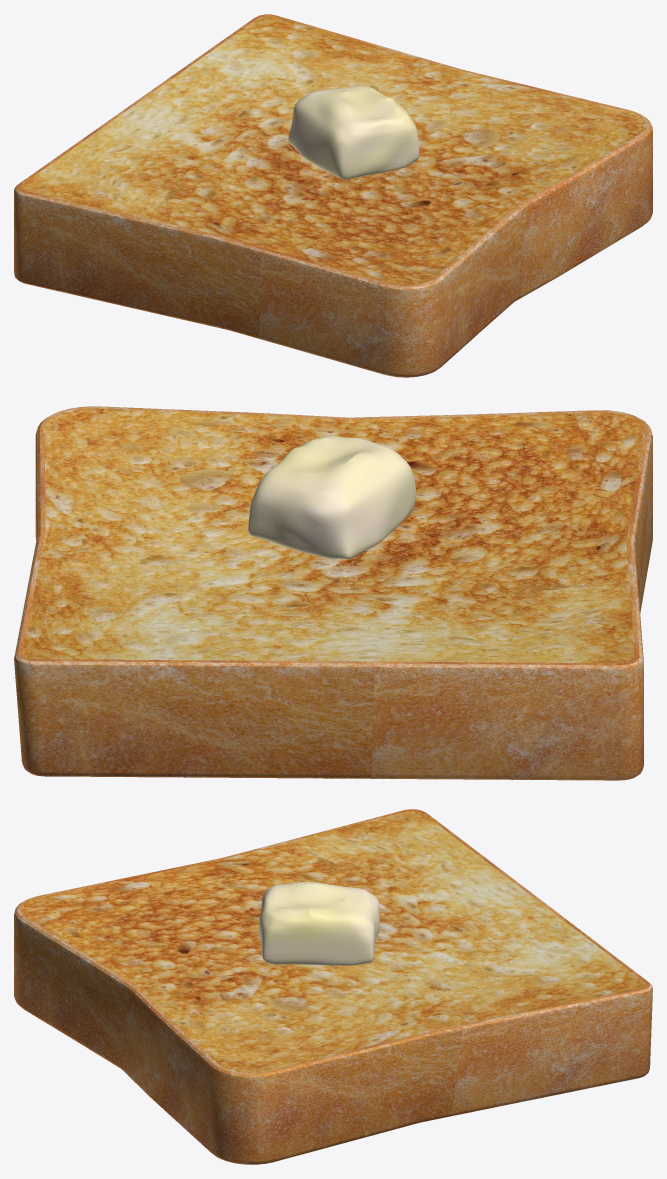
File: white_bread.glb
3 views of the same model, one above another, from view 1: azimuth 30°, elevation 25°; view 2: azimuth 150°, elevation 25°; view 3: azimuth 270°, elevation 25° (orthographic). The views are drawn at different scales.
Visible parts, largest first — view 1: Cube, Cube.001; view 2: Cube, Cube.001; view 3: Cube, Cube.001.
Part boxes in pixels (bbox=[...]): Cube: bbox=[14, 14, 652, 377]; Cube.001: bbox=[288, 86, 419, 179]; Cube: bbox=[14, 406, 652, 780]; Cube.001: bbox=[248, 436, 416, 559]; Cube: bbox=[14, 809, 652, 1164]; Cube.001: bbox=[258, 881, 380, 965].
Bounding box in the file's own units: 2.62 × 0.6792 × 2.64.
3 materials, 3 textured.
